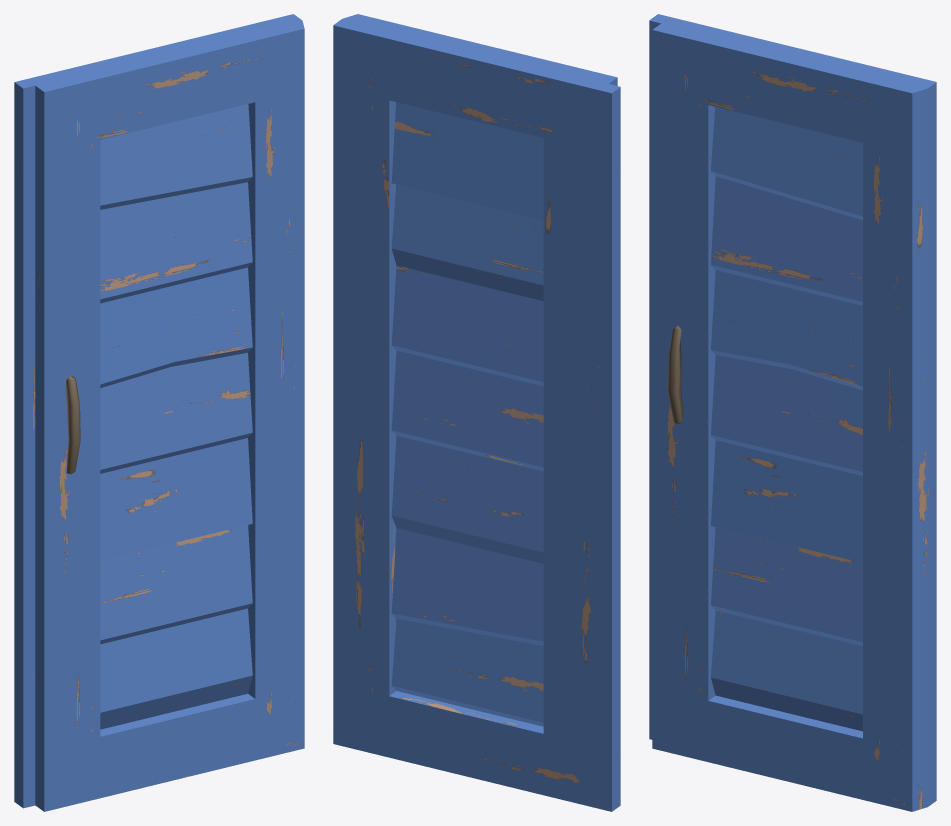
The model's file is ShutterWallLargeWindowLeft.fbx.
The picture shows the model from 3 angles, left to right: view 1: azimuth 30°, elevation 25°; view 2: azimuth 150°, elevation 25°; view 3: azimuth 330°, elevation 25°; orthographic projection.
Visible parts, largest first — view 1: ShutterWallLargeWindowLeft; view 2: ShutterWallLargeWindowLeft; view 3: ShutterWallLargeWindowLeft.
Boxes of the visible parts, box(x1,y1,x2,y2) form: ShutterWallLargeWindowLeft: box(14, 14, 304, 811); ShutterWallLargeWindowLeft: box(333, 14, 620, 811); ShutterWallLargeWindowLeft: box(649, 14, 936, 811).
Bounding box in the file's own units: 51.14 × 126 × 7.77.
Materials: 2 (1 with a texture image).
